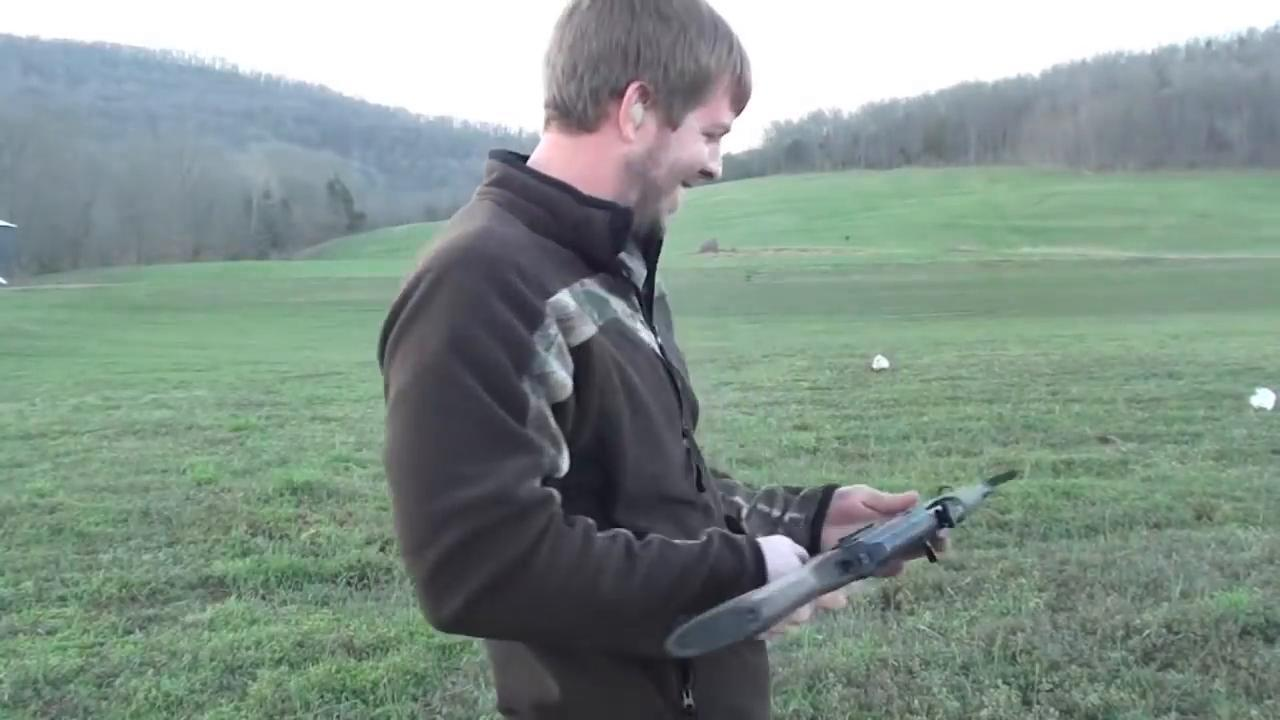AK47 Rifle: (665, 469, 1023, 662)
